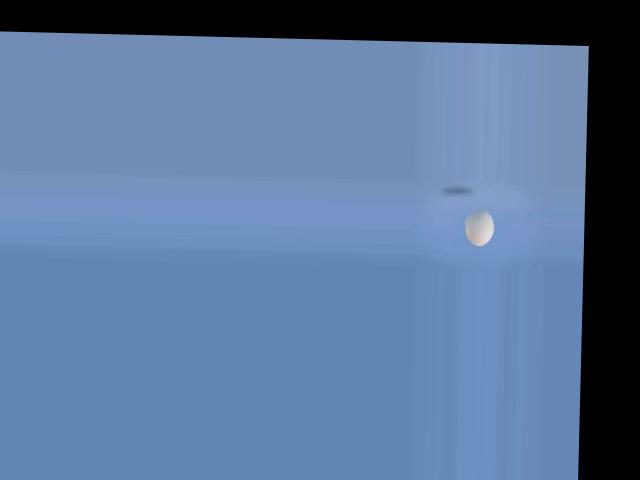egg: (464, 209, 495, 246)
